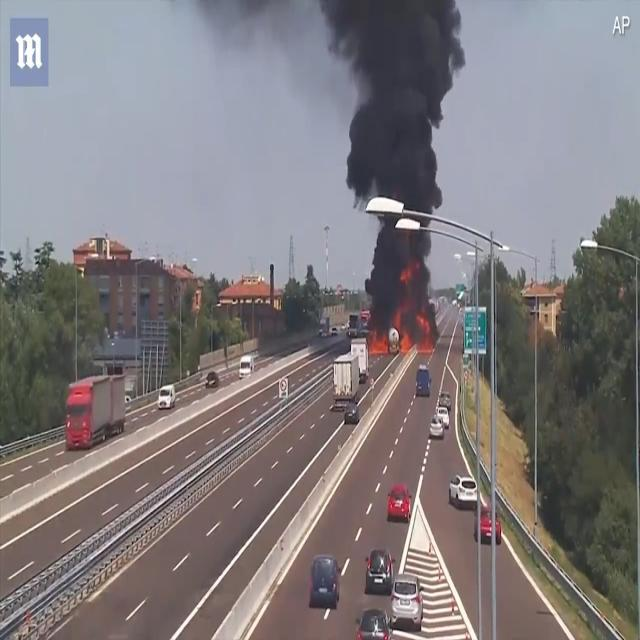Fire: (368, 262, 432, 356)
Smoke: (320, 0, 465, 334)
